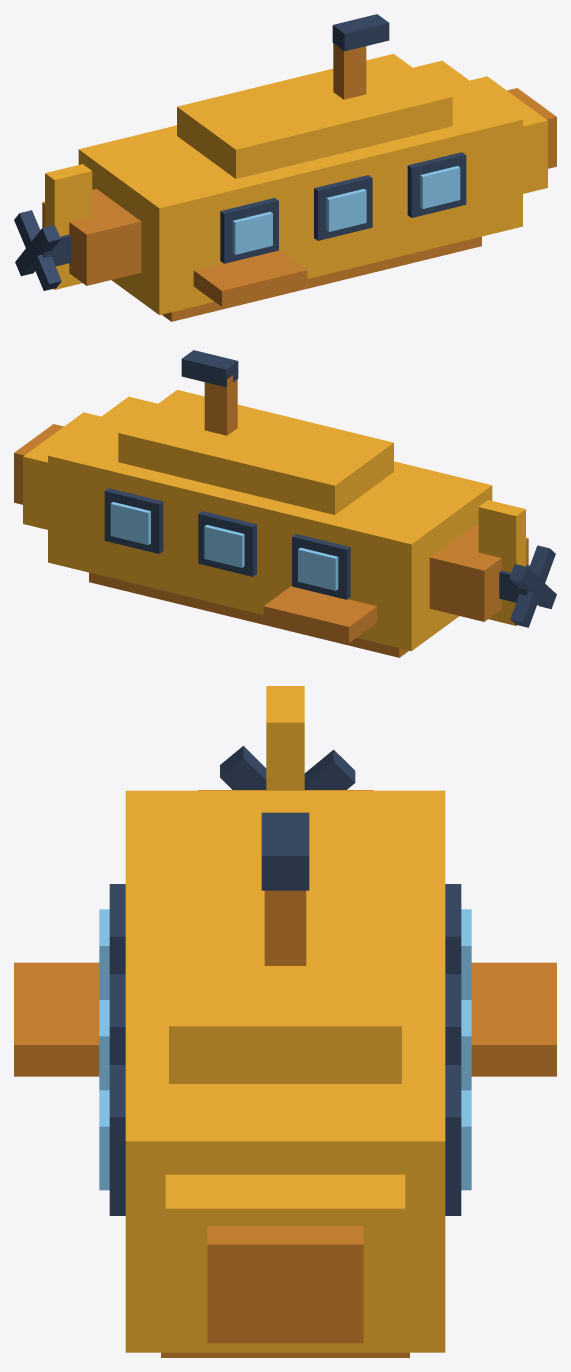
Rendered from submarine.glb.
3 views of the same model, one above another, from view 1: azimuth 30°, elevation 25°; view 2: azimuth 150°, elevation 25°; view 3: azimuth 270°, elevation 25° (orthographic). The views are drawn at different scales.
Visible parts, largest first — view 1: Hull, Cabin, Window frame (×3), Tail, Window (×3), Fin, Rudder, Nose, Keel, Propeller blade (×2), Periscope stem, Periscope cap (+2 smaller); view 2: Hull, Cabin, Window frame (×3), Tail, Window (×3), Fin, Rudder, Nose, Keel, Propeller blade (×2), Periscope stem, Periscope cap (+2 smaller); view 3: Hull, Cabin, Nose, Fin (×2), Bumper, Window frame (×6), Window (×6), Rudder, Periscope cap, Periscope stem, Propeller blade (×2), Keel.
Boxes of the visible parts, x1,y1,x2,y2 form: Hull: (78,60,522,314); Cabin: (177,54,452,178); Window frame (×3): (220,152,466,263); Tail: (42,189,141,285); Window (×3): (232,166,460,254); Fin: (193,250,307,306); Rudder: (45,164,92,289); Nose: (470,76,547,193); Keel: (162,236,481,321); Propeller blade (×2): (14,210,61,290); Periscope stem: (333,43,366,99); Periscope cap: (332,14,389,51); Hull: (48,396,492,650); Cabin: (118,390,393,514); Window frame (×3): (104,488,350,599); Tail: (429,525,528,621); Window (×3): (110,502,338,590); Fin: (263,586,377,642); Rudder: (478,500,525,625); Nose: (23,412,100,529); Keel: (89,572,408,657); Propeller blade (×2): (509,545,556,627); Periscope stem: (204,375,237,435); Periscope cap: (181,350,238,387); Hull: (125,790,445,1352); Cabin: (169,817,401,1083); Nose: (165,1174,405,1341); Fin (×2): (14,962,556,1076); Bumper: (207,1226,363,1343); Window frame (×6): (109,884,461,1215); Window (×6): (99,909,471,1190); Rudder: (266,686,304,790); Periscope cap: (261,812,309,890); Periscope stem: (264,890,306,965); Propeller blade (×2): (220,746,355,789); Keel: (161,1352,409,1357).
Bounding box in the file's own units: 3.62 × 1.51 × 1.7.
